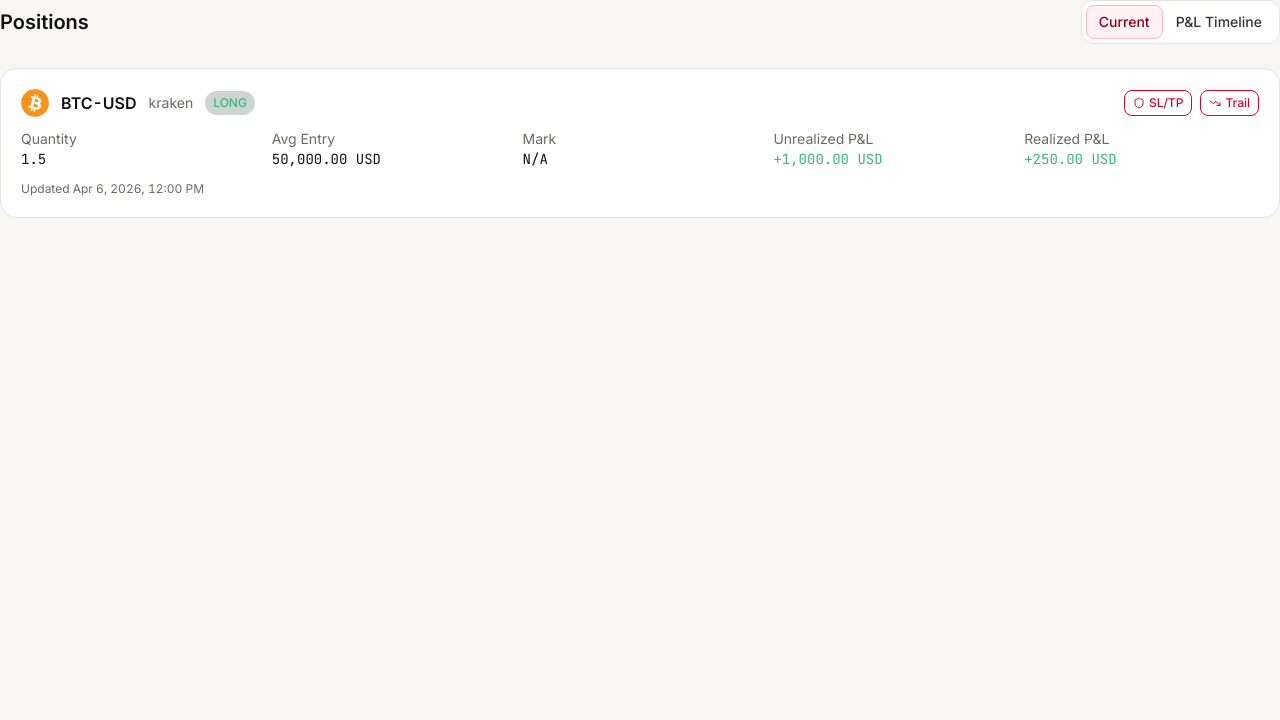
Test: Positions › closes trailing stop modal when onClose fires
Step 1. Click the button with test id "attach-trailing-stop-BTC-USD-kraken-live" → click(1230, 103), box [1200, 90, 1259, 116]
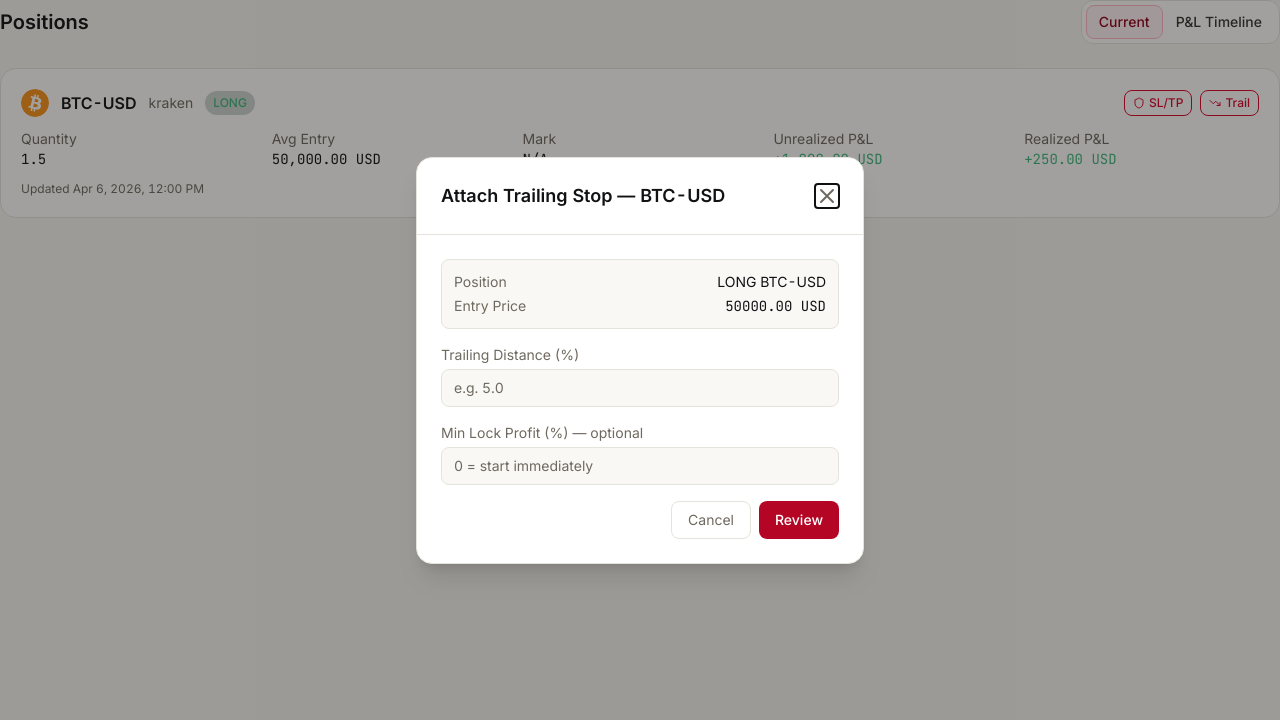
Now the heading "Attach Trailing Stop — BTC-USD" is shown, box [441, 182, 725, 210]
Step 2. Click the button named "Close" → click(827, 196), box [815, 184, 839, 208]
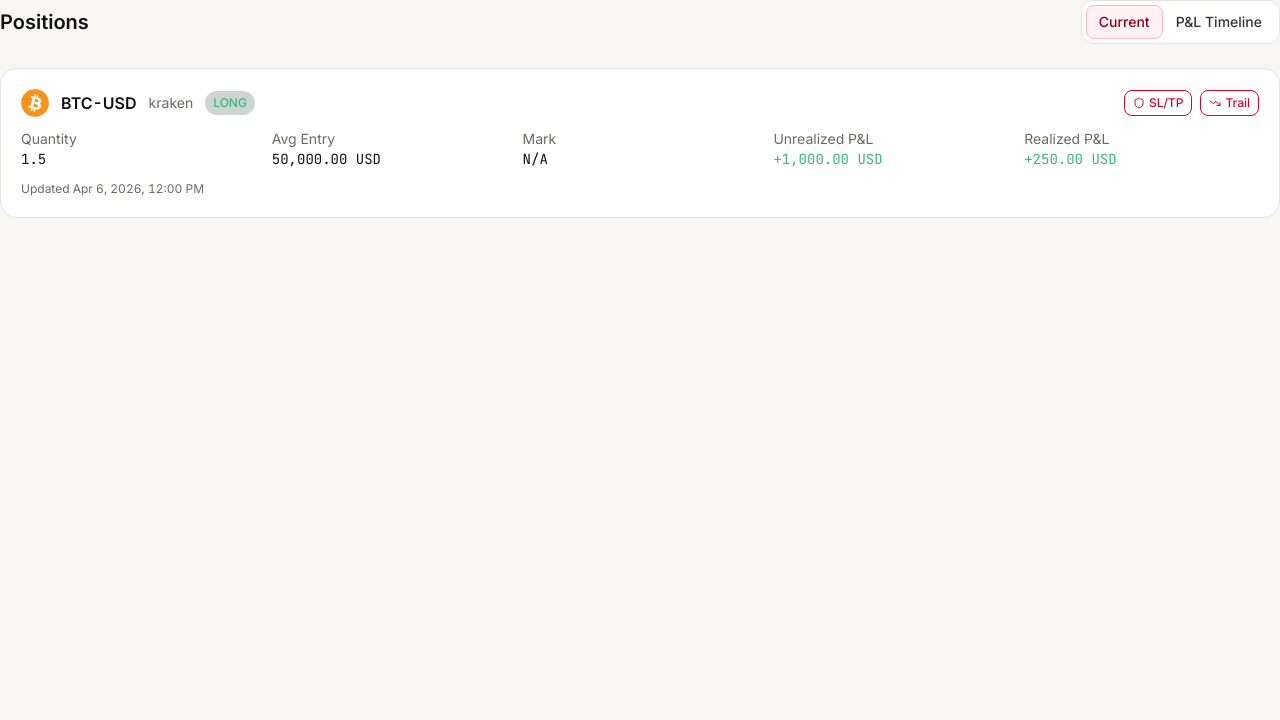
Now the heading "Attach Trailing Stop — BTC-USD" is gone
